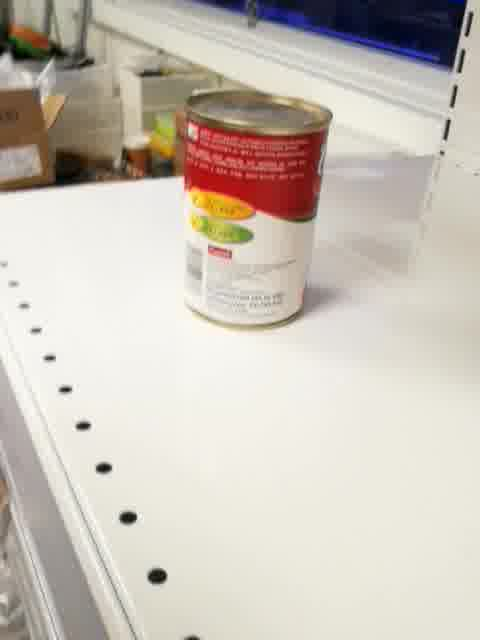tomatosoup: (178, 88, 336, 336)
